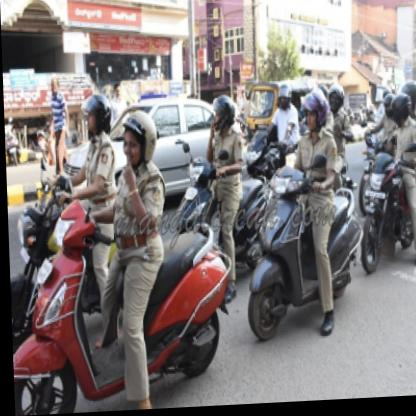With Helmet: (117, 106, 160, 174), (80, 89, 113, 145), (299, 86, 331, 137), (207, 89, 237, 140)
